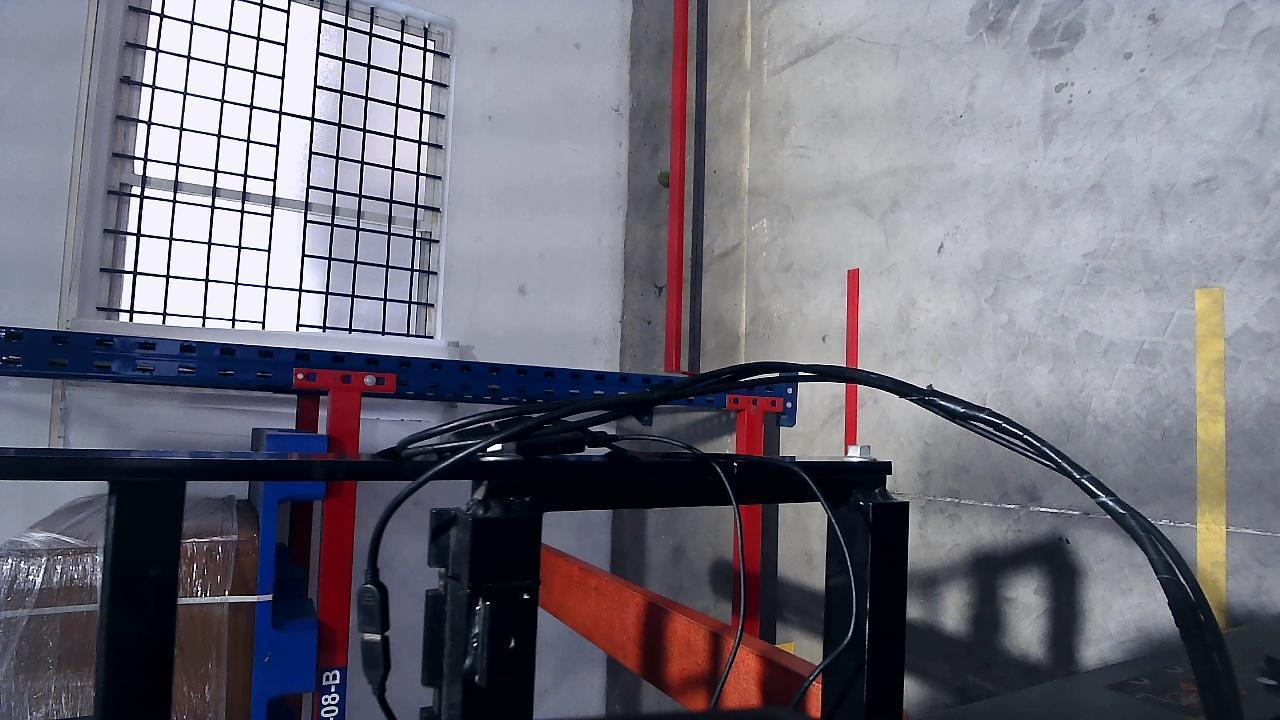red_line: (840, 267, 865, 443)
yellow_line: (1195, 285, 1227, 704)
